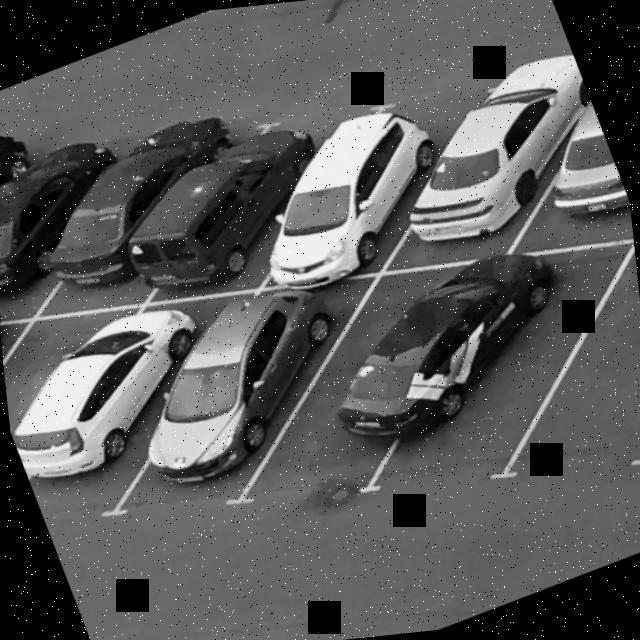car: (77, 270, 393, 522), (208, 252, 512, 512), (354, 240, 639, 478), (354, 57, 631, 276), (100, 110, 392, 317), (228, 89, 504, 295), (0, 300, 262, 515), (9, 114, 276, 301), (0, 134, 163, 296), (488, 106, 634, 264), (0, 130, 46, 258)
free: (465, 247, 640, 488), (0, 290, 155, 477)
